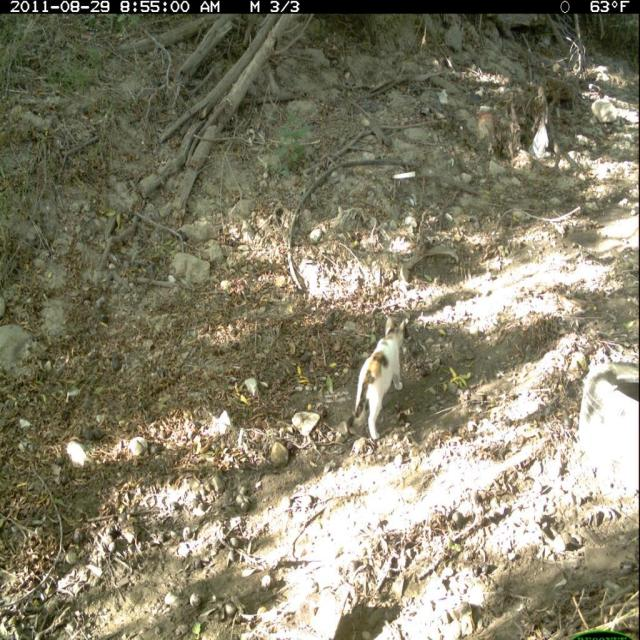cat: (345, 313, 410, 443)
